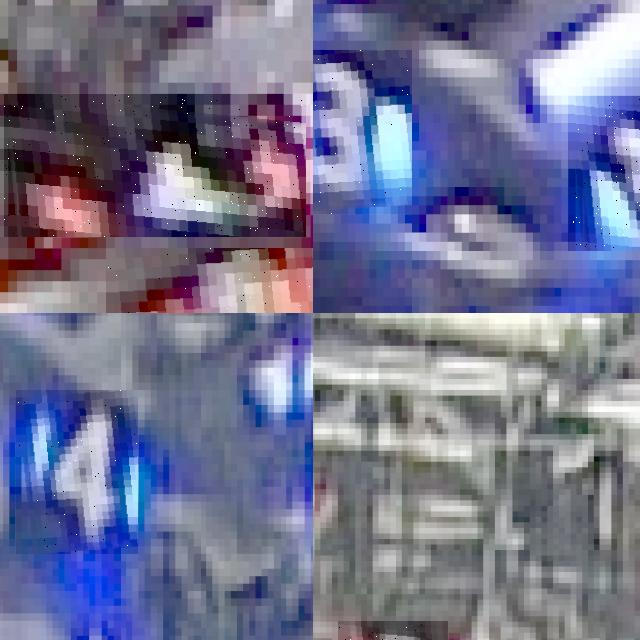B3: (313, 49, 412, 214), (568, 95, 640, 251)
B4: (16, 390, 138, 554)
R2: (337, 621, 448, 640)
R4: (4, 94, 306, 237), (106, 248, 313, 313)
